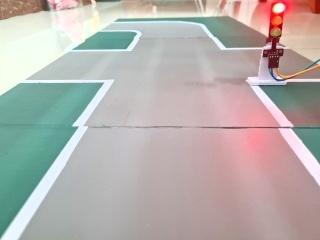red: (263, 0, 288, 57)
